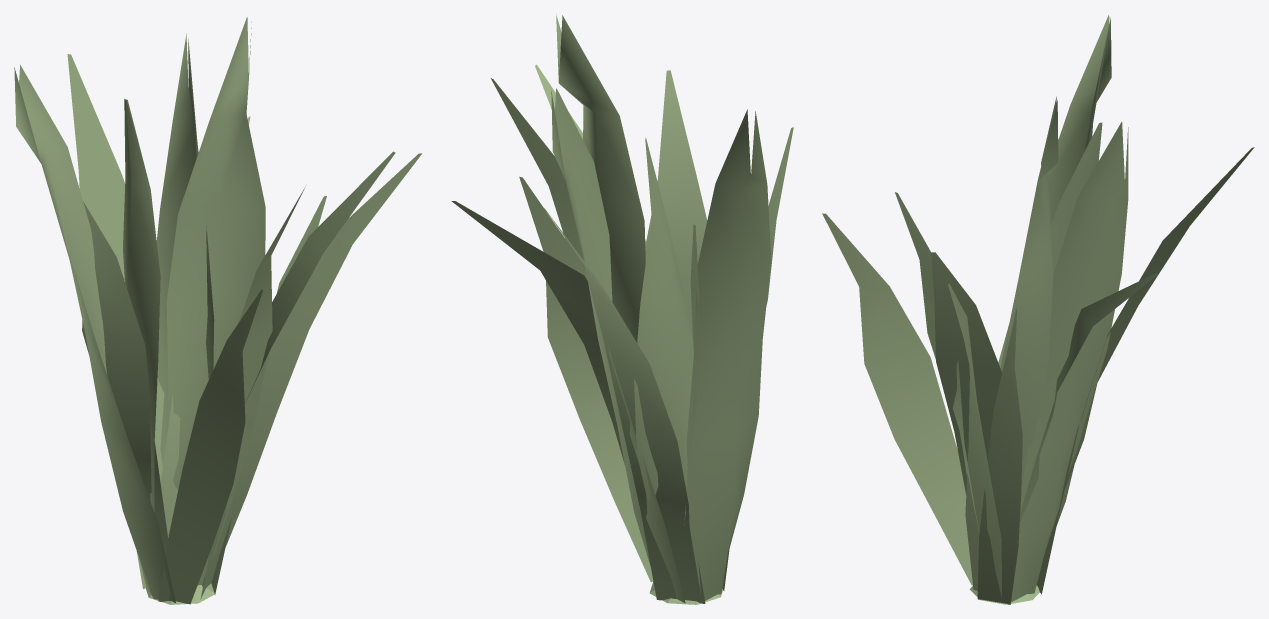
Rendered from kelp_a.glb.
3 views of the same model, side by side, from view 1: azimuth 30°, elevation 25°; view 2: azimuth 150°, elevation 25°; view 3: azimuth 270°, elevation 25° (orthographic). The views are drawn at different scales.
Parts seen in each view (by area): view 1: kelp_a; view 2: kelp_a; view 3: kelp_a.
Boxes of the visible parts, x1,y1,x2,y2 form: kelp_a: [14, 17, 421, 604]; kelp_a: [451, 14, 793, 604]; kelp_a: [822, 15, 1254, 604].
Bounding box in the file's own units: 2.29 × 3.55 × 2.59.
